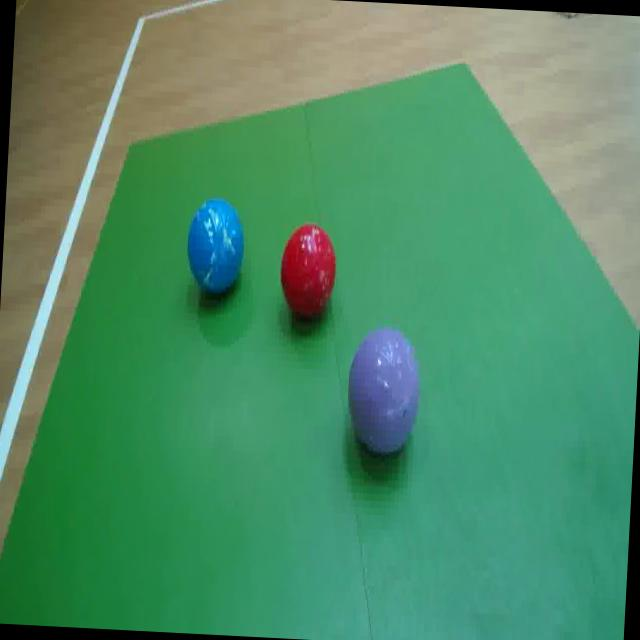blue_ball: (184, 196, 251, 303)
purple_ball: (346, 323, 428, 465)
red_ball: (280, 222, 344, 328)
